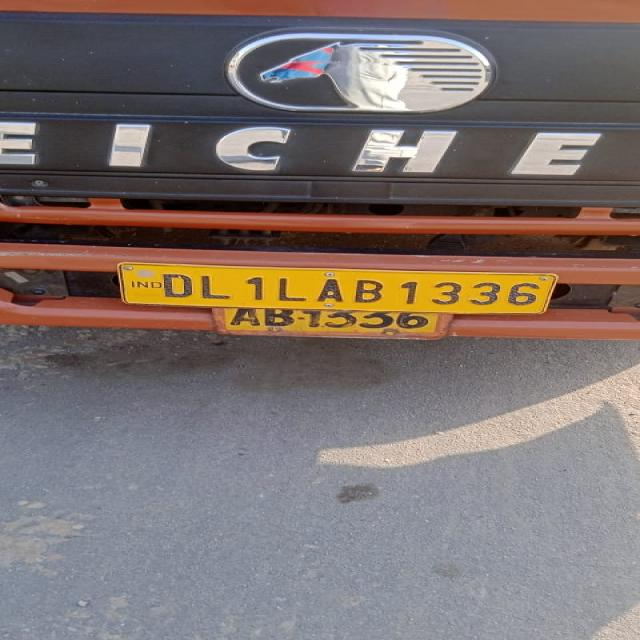License-plate: (120, 263, 563, 315)
